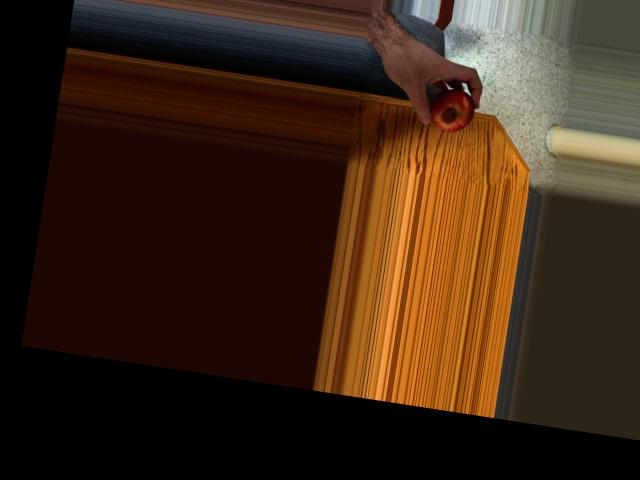apple: (414, 76, 482, 137)
